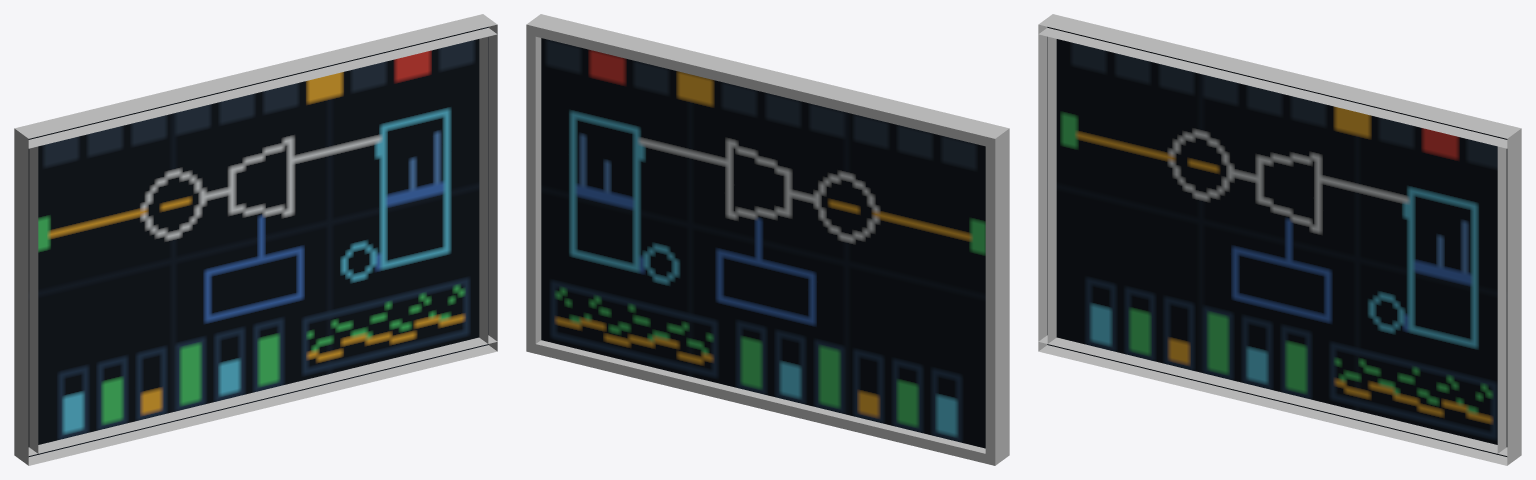
The model's file is wall_display_3x2_item.obj.
The picture shows the model from 3 angles, left to right: view 1: azimuth 30°, elevation 25°; view 2: azimuth 150°, elevation 25°; view 3: azimuth 330°, elevation 25°; orthographic projection.
Visible parts, largest first — view 1: wall_display_3x2_item; view 2: wall_display_3x2_item; view 3: wall_display_3x2_item.
Boxes of the visible parts, x1,y1,x2,y2 form: wall_display_3x2_item: [14, 14, 497, 465]; wall_display_3x2_item: [526, 14, 1009, 465]; wall_display_3x2_item: [1038, 14, 1521, 465].
Size of the model in its own units: 3 by 2 by 0.16.
